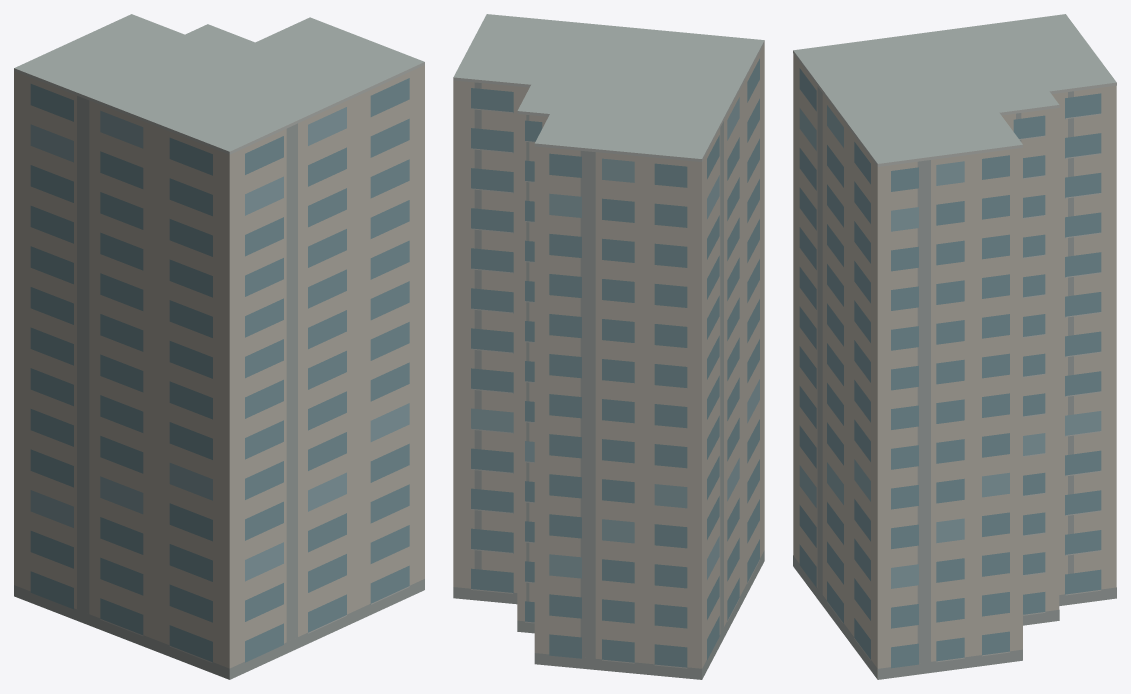
Rendered from residential-0c8301be-4e14-4203-9920-1d22ec05731b.glb.
3 views of the same model, side by side, from view 1: azimuth 30°, elevation 25°; view 2: azimuth 150°, elevation 25°; view 3: azimuth 270°, elevation 25° (orthographic). The views are drawn at different scales.
Parts seen in each view (by area): view 1: residential-0c8301be-4e14-4203-9920-1d22ec05731b.tmp; view 2: residential-0c8301be-4e14-4203-9920-1d22ec05731b.tmp; view 3: residential-0c8301be-4e14-4203-9920-1d22ec05731b.tmp.
Boxes of the visible parts, x1,y1,x2,y2 form: residential-0c8301be-4e14-4203-9920-1d22ec05731b.tmp: (14, 14, 424, 679); residential-0c8301be-4e14-4203-9920-1d22ec05731b.tmp: (453, 14, 764, 679); residential-0c8301be-4e14-4203-9920-1d22ec05731b.tmp: (793, 14, 1116, 679).
Size of the model in its own units: 26.19 by 42 by 23.89.
